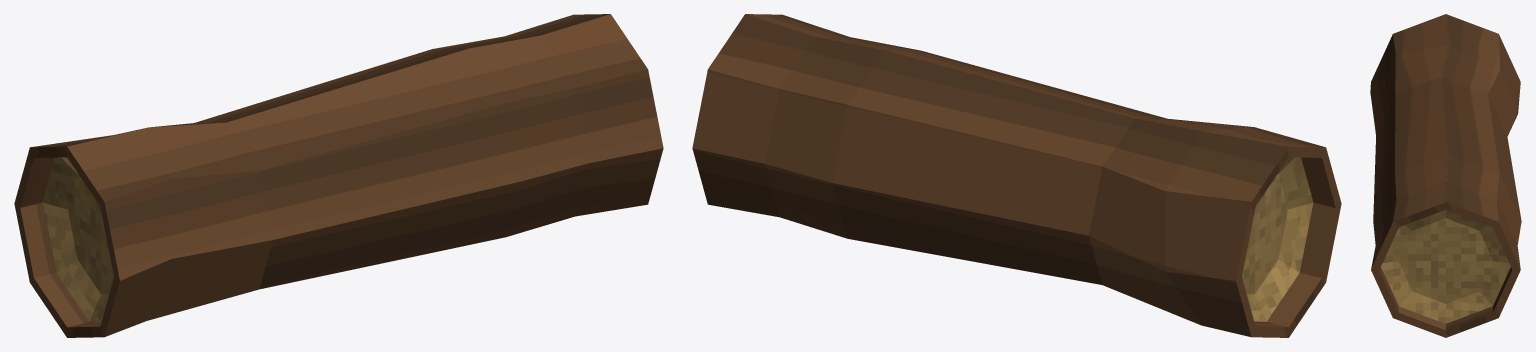
The model's file is WoodItem.obj.
The picture shows the model from 3 angles, left to right: view 1: azimuth 30°, elevation 25°; view 2: azimuth 150°, elevation 25°; view 3: azimuth 270°, elevation 25°; orthographic projection. The views are drawn at different scales.
Visible parts, largest first — view 1: WoodBake; view 2: WoodBake; view 3: WoodBake.
Part boxes in pixels (x1,y1,x2,y2): WoodBake: [14, 14, 663, 337]; WoodBake: [692, 14, 1341, 337]; WoodBake: [1370, 14, 1521, 337].
Size of the model in its own units: 0.2602 by 0.0875 by 0.0883.
Materials: 1 (1 with a texture image).
